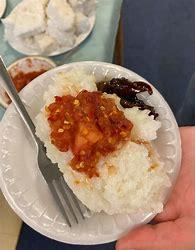Kiribath: (30, 60, 177, 232)
Lunu sambol: (48, 88, 122, 177)
